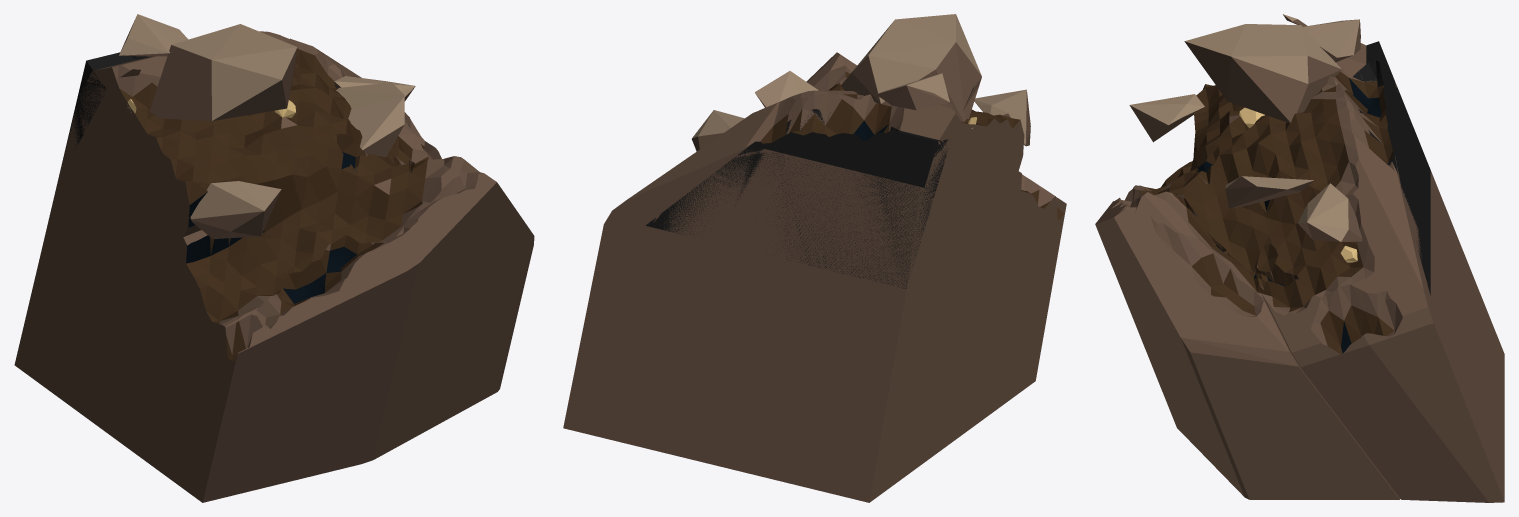
File: rock_column_br_wreck.glb
3 views of the same model, side by side, from view 1: azimuth 30°, elevation 25°; view 2: azimuth 150°, elevation 25°; view 3: azimuth 270°, elevation 25° (orthographic). The views are drawn at different scales.
Parts seen in each view (by area): view 1: rock_column_br_wreck; view 2: rock_column_br_wreck; view 3: rock_column_br_wreck.
Part boxes in pixels (x1,y1,x2,y2): rock_column_br_wreck: (14, 14, 534, 502); rock_column_br_wreck: (563, 14, 1066, 502); rock_column_br_wreck: (1095, 14, 1504, 502).
Size of the model in its own units: 23.5 by 25.97 by 27.35.
